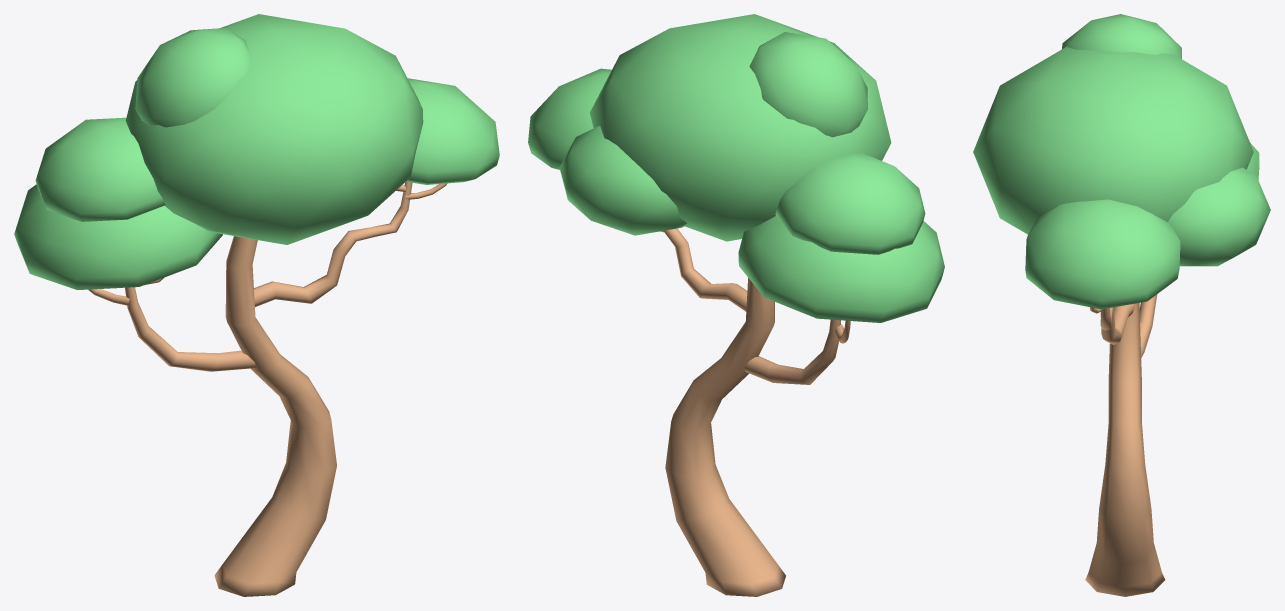
Rendered from Pohon_15.fbx.
The picture shows the model from 3 angles, left to right: view 1: azimuth 30°, elevation 25°; view 2: azimuth 150°, elevation 25°; view 3: azimuth 270°, elevation 25°; orthographic projection. The views are drawn at different scales.
Parts seen in each view (by area): view 1: Circle.056; view 2: Circle.056; view 3: Circle.056.
Part boxes in pixels (bbox=[...]): Circle.056: bbox=[14, 14, 499, 596]; Circle.056: bbox=[528, 14, 944, 596]; Circle.056: bbox=[973, 14, 1270, 596].
Bounding box in the file's own units: 1302 × 1617 × 813.
